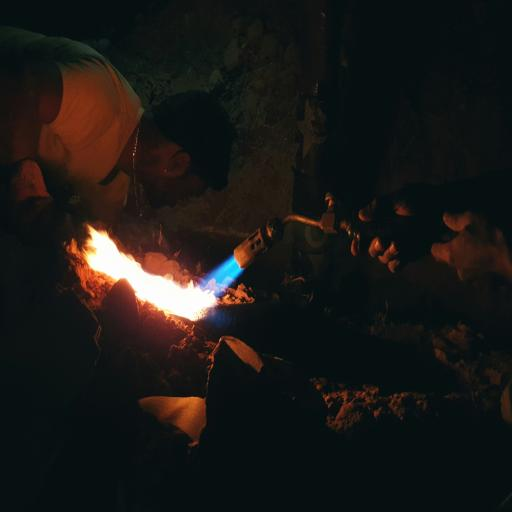fire: (82, 218, 228, 316)
lighter: (79, 208, 315, 300)
